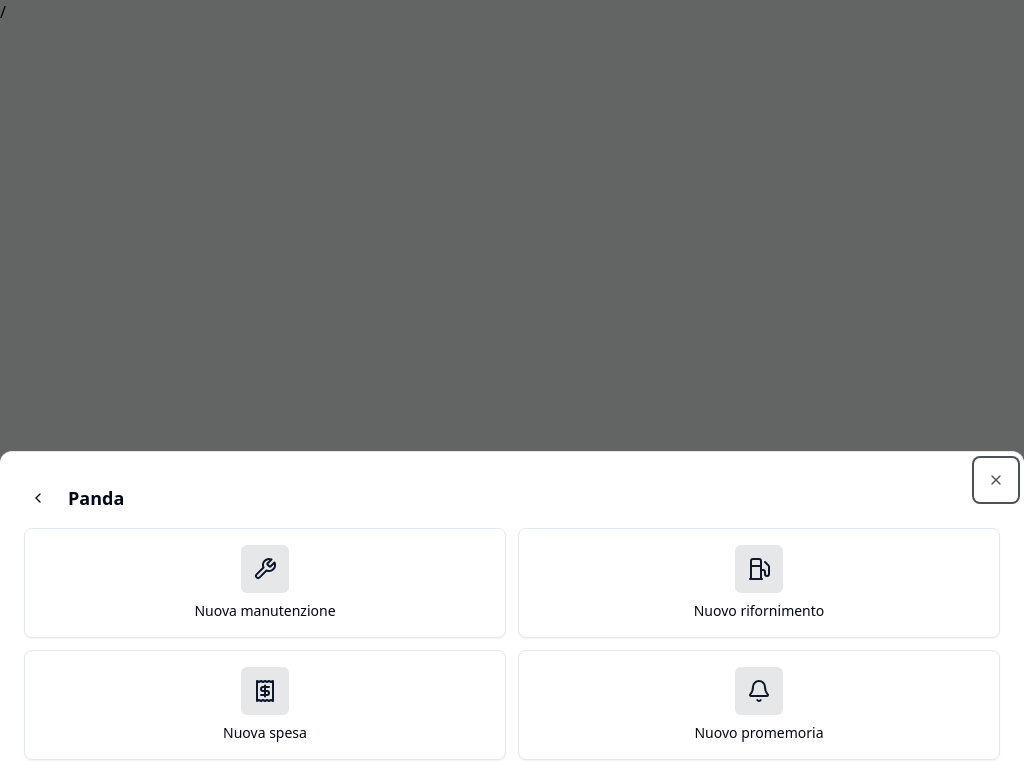
Test: QuickAddSheet › con un solo veicolo "indietro" riapre la scelta (per aggiungerne un altro)
The width and height of the screenshot is (1024, 768).
Click the button named "Indietro". click: (38, 498)
box: [16,476,60,520]
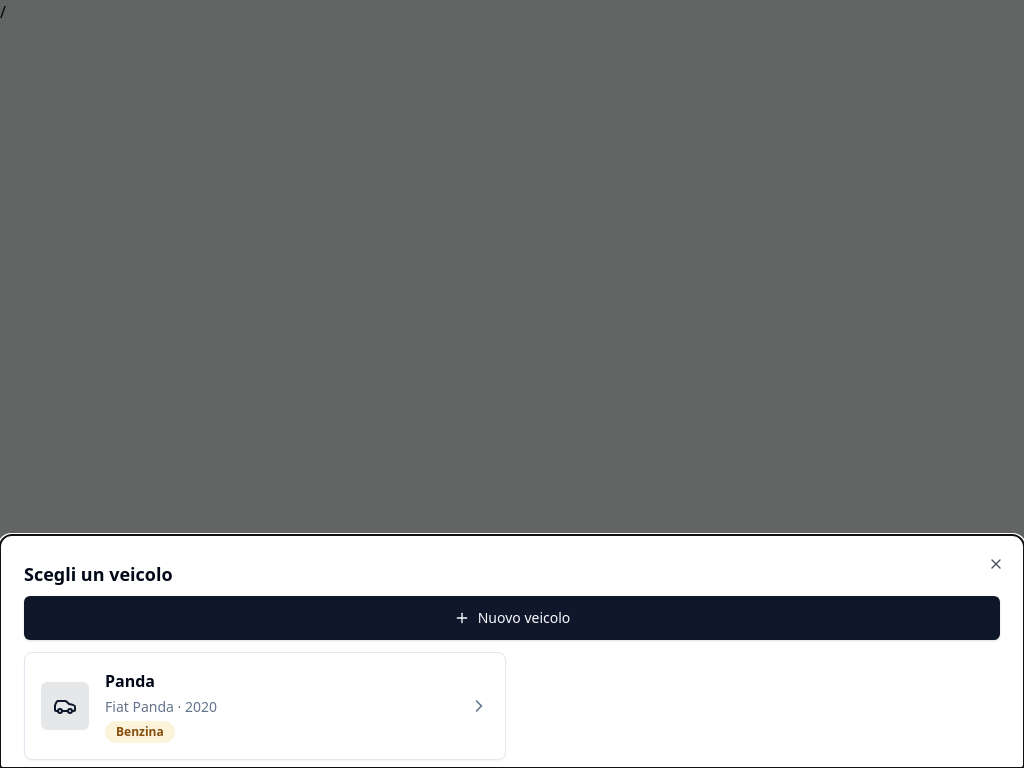
Now the button "Nuovo veicolo" is shown, box [24,596,1000,640]
